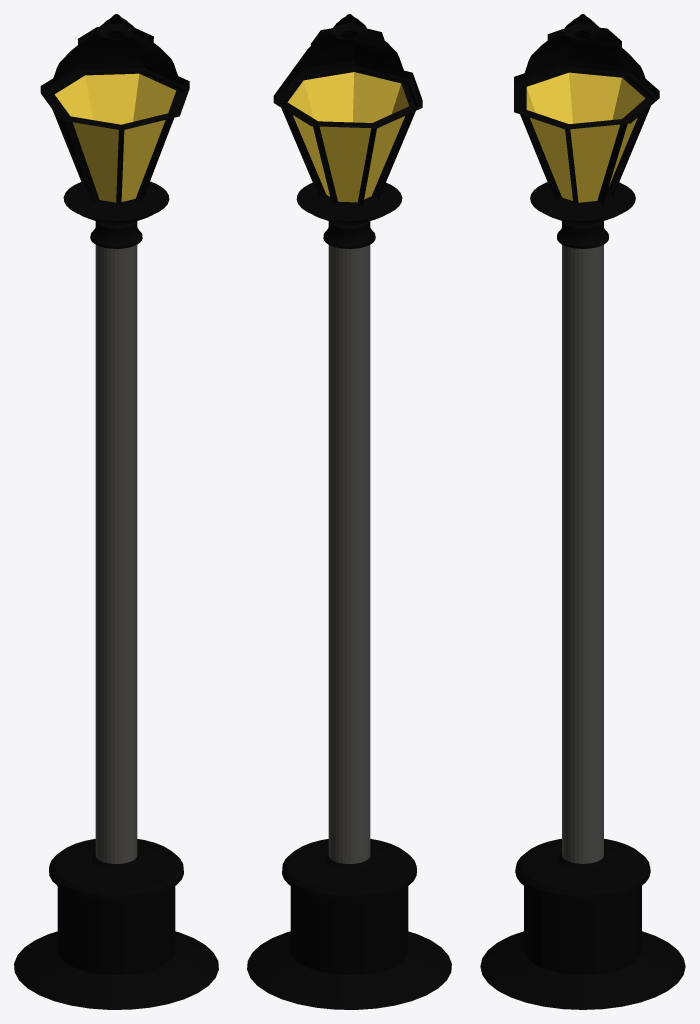
File: light.fbx
3 views of the same model, side by side, from view 1: azimuth 30°, elevation 25°; view 2: azimuth 150°, elevation 25°; view 3: azimuth 270°, elevation 25° (orthographic).
Visible parts, largest first — view 1: Cylinder, Circle; view 2: Cylinder, Circle; view 3: Cylinder, Circle.
Part boxes in pixels (<box>): Cylinder: <box>14,181,218,1009</box>; Circle: <box>40,14,189,207</box>; Cylinder: <box>247,182,451,1009</box>; Circle: <box>273,14,422,206</box>; Cylinder: <box>480,182,685,1009</box>; Circle: <box>514,14,659,206</box>.
Bounding box in the file's own units: 316 × 1614 × 316.
